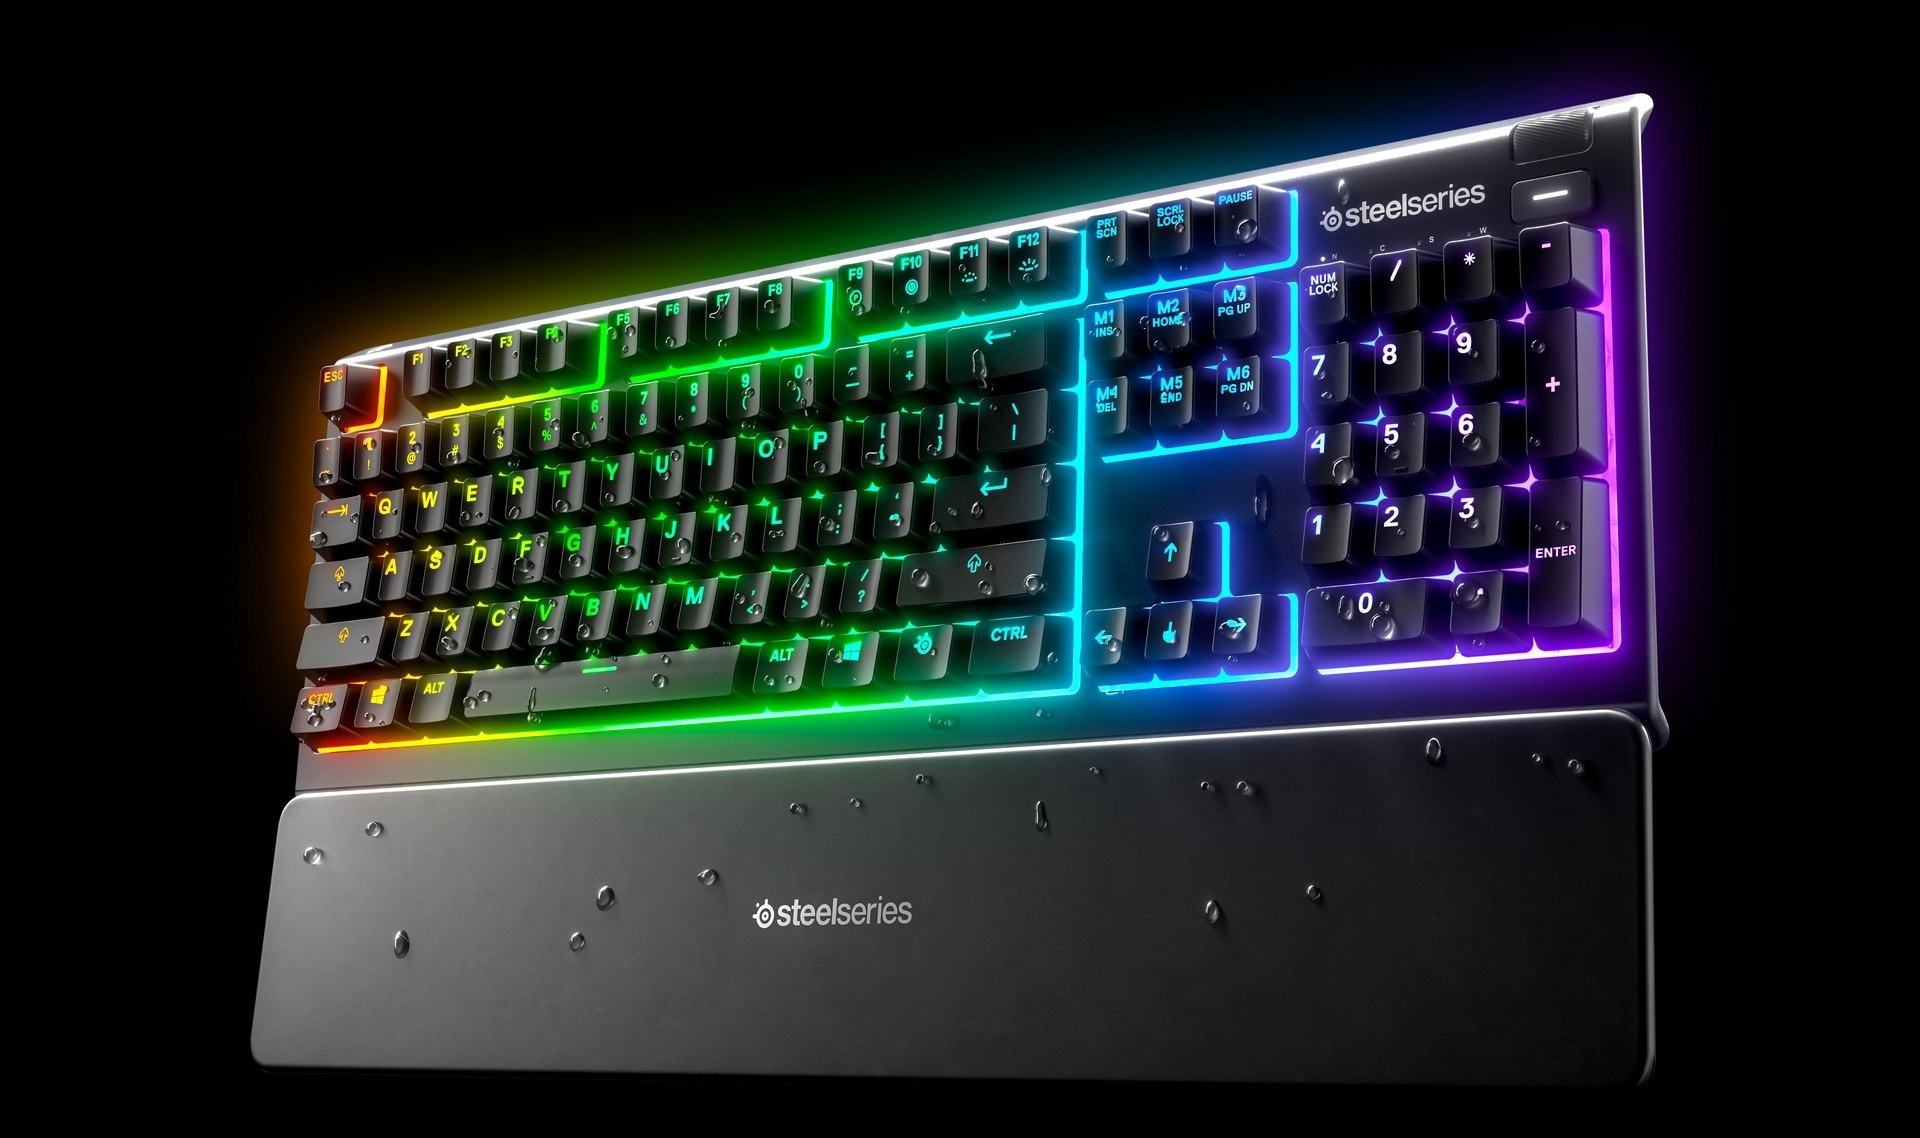keyboard: (233, 69, 1690, 1103)
